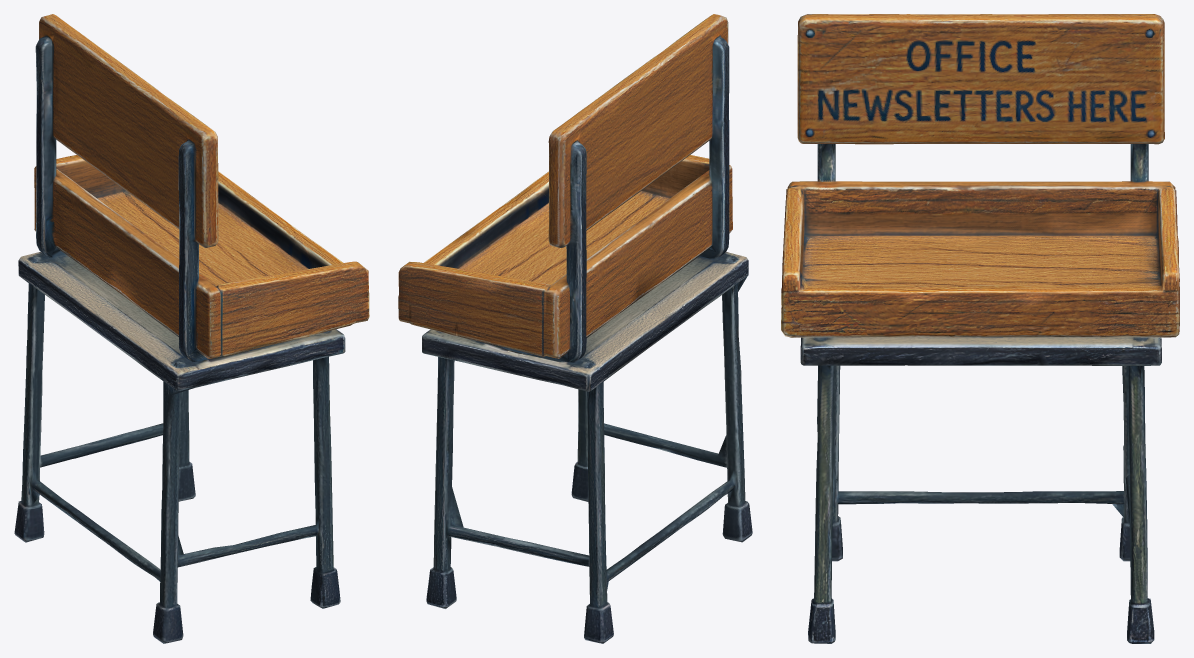
File: NewsletterDropOff.fbx
3 renders of one model, left to right at view 1: azimuth 30°, elevation 25°; view 2: azimuth 150°, elevation 25°; view 3: azimuth 270°, elevation 25°, orthographic. The views are drawn at different scales.
Parts seen in each view (by area): view 1: tripo_node_8ff9b8c5-f2bb-4e82-ae78-67df69933b62; view 2: tripo_node_8ff9b8c5-f2bb-4e82-ae78-67df69933b62; view 3: tripo_node_8ff9b8c5-f2bb-4e82-ae78-67df69933b62.
Part boxes in pixels (left/top/right/bottom): tripo_node_8ff9b8c5-f2bb-4e82-ae78-67df69933b62: left=14, top=14, right=369, bottom=643; tripo_node_8ff9b8c5-f2bb-4e82-ae78-67df69933b62: left=398, top=14, right=752, bottom=643; tripo_node_8ff9b8c5-f2bb-4e82-ae78-67df69933b62: left=781, top=14, right=1179, bottom=643.
Size of the model in its own units: 39.57 by 100 by 64.98.
Materials: 1 (1 with a texture image).
